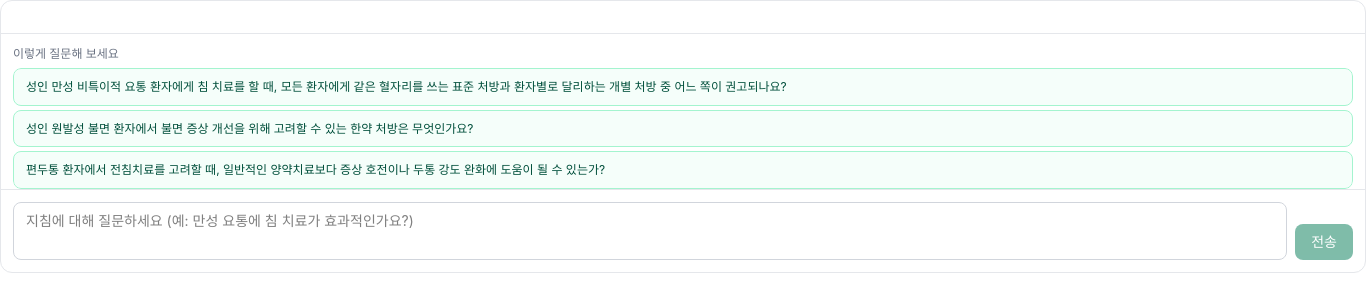
13-a~b: 에이전트 502 봉투의 문장과 재시도 버튼을 오류 상자에 표시한다
The image size is (1366, 290).
Check: the text "이렇게 질문해 보세요" is shown, box [13,46,119,61]
In the text box named "질문 입력": (650, 230) [13,202,1287,260], type "CASE-901 합성 기록의 항목을 요약해 주세요."
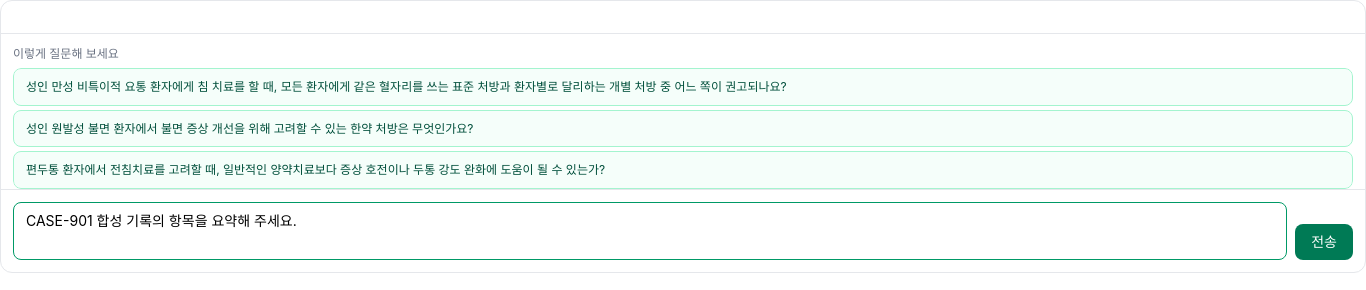
Click the button "전송": (1324, 242) [1295,224,1353,260]
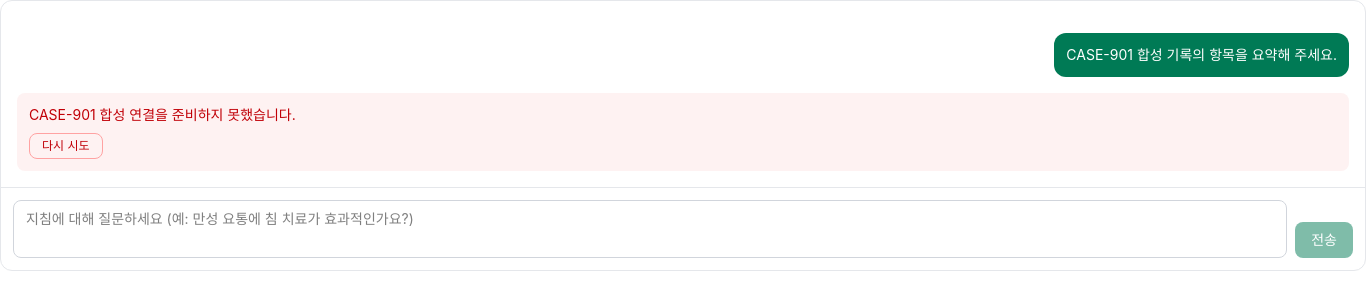
Check: the text "CASE-901 합성 연결을 준비하지 못했습니다." is shown, box [29,106,296,123]
Check: the button "다시 시도" is shown, box [29,133,102,159]
